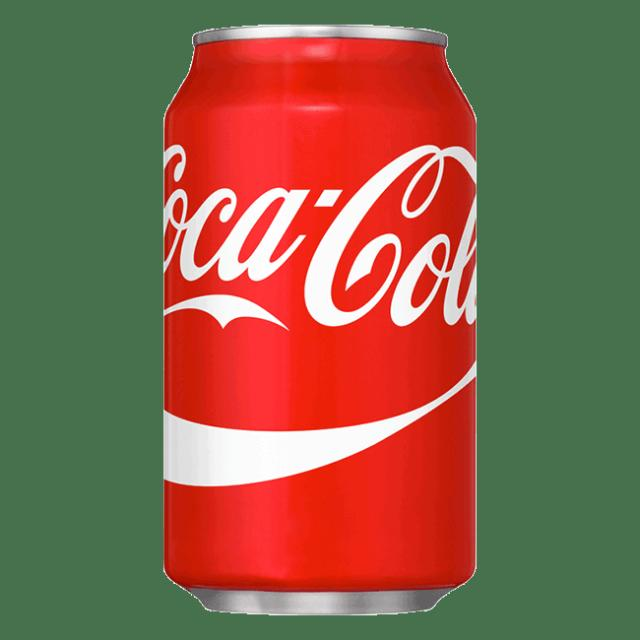cocacola: (150, 18, 466, 617)
